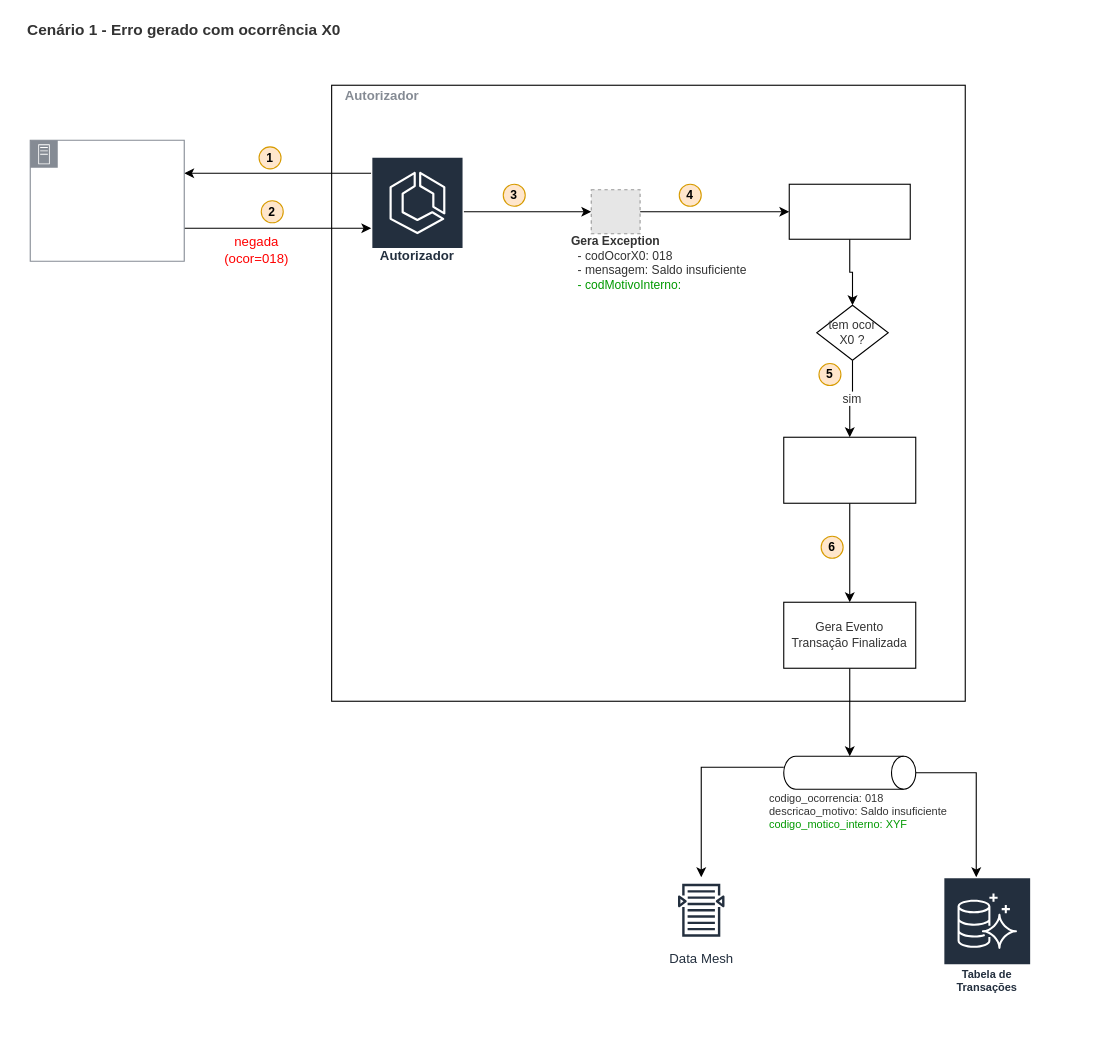
Image size: 1093x1060. Some labels were removed from this diagram. Grey dashed boxes stand in for pictures. The shapes that lost their labels are listed below. From the top down, each one's box as (x1, y1, x2, y2) in pixels, then its label:
(29, 139, 184, 261): X0- Legado - Contas - Limite Operacional
(788, 183, 910, 239): Error Handler (Tratamento de erro)
(783, 436, 916, 503): Faz De Para: Ocorrrência X0 x Motivo Interno
(783, 755, 916, 789): Transação Finalizada
